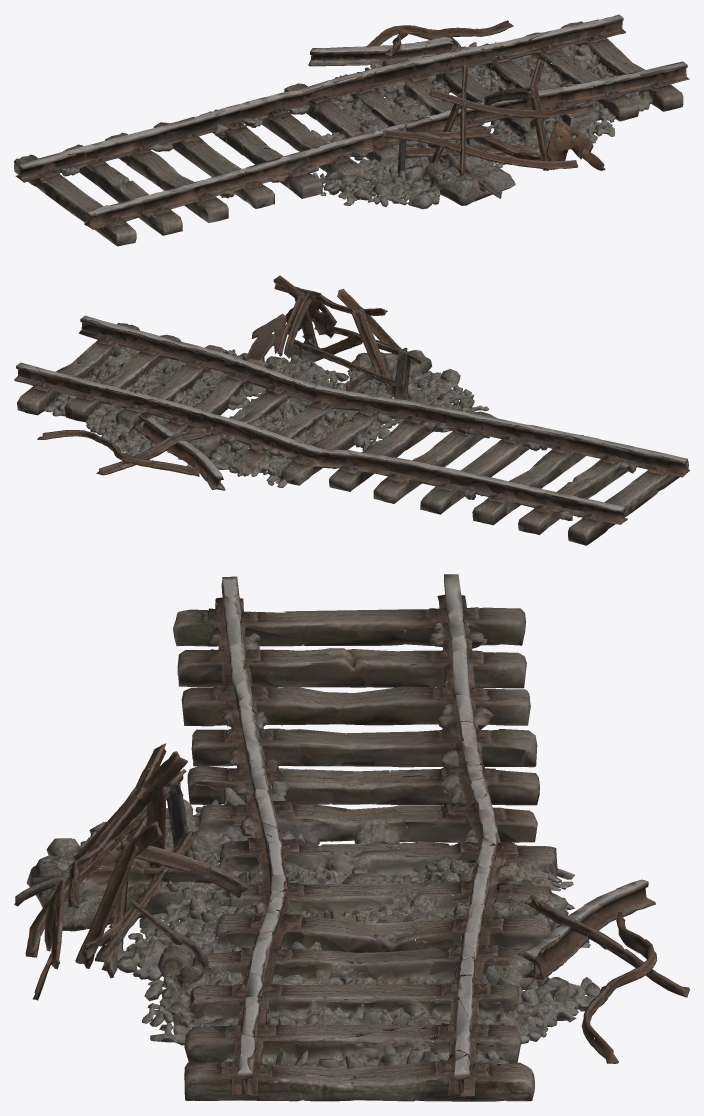
The model's file is ruined-railway-track-meshy-v1.glb.
The picture shows the model from 3 angles, top to bottom: view 1: azimuth 30°, elevation 25°; view 2: azimuth 150°, elevation 25°; view 3: azimuth 270°, elevation 25°; orthographic projection. The views are drawn at different scales.
Visible parts, largest first — view 1: Mesh_0; view 2: Mesh_0; view 3: Mesh_0.
Part boxes in pixels (box(x1,y1,x2,y2)): Mesh_0: box(14, 14, 689, 246); Mesh_0: box(14, 275, 689, 545); Mesh_0: box(14, 574, 689, 1101).
Size of the model in its own units: 1.9 by 0.3054 by 1.09.
Materials: 1 (1 with a texture image).
